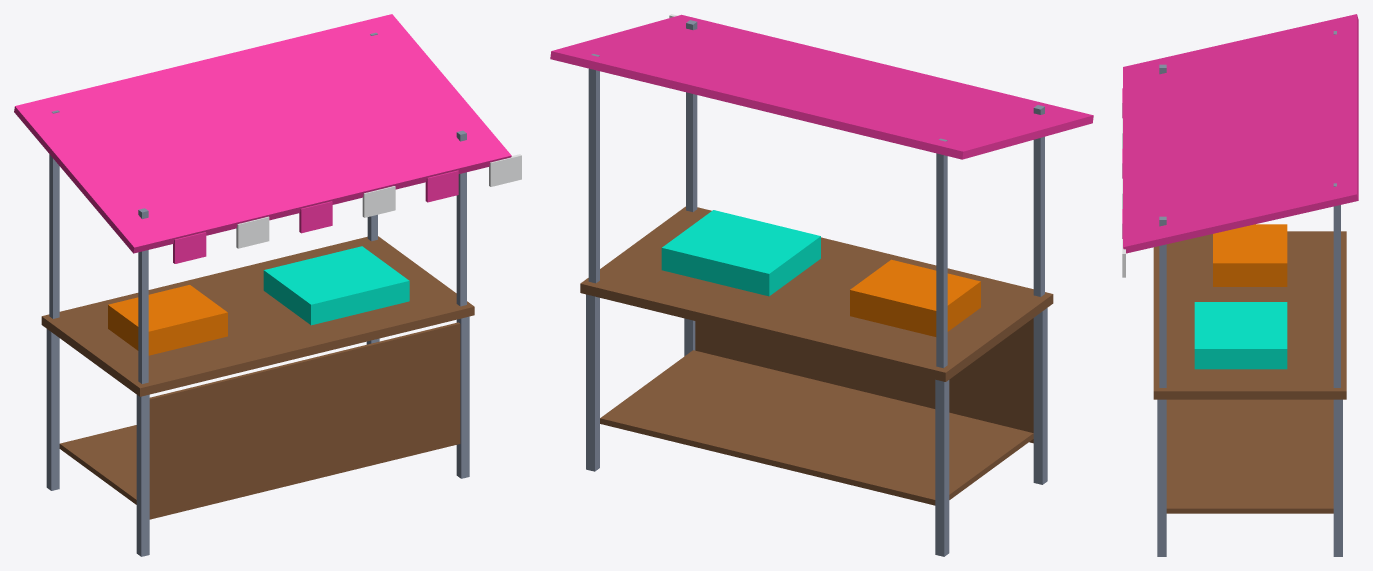
Rendered from stage_chodem_kiosk_hong.fbx.
3 renders of one model, left to right at view 1: azimuth 30°, elevation 25°; view 2: azimuth 150°, elevation 25°; view 3: azimuth 270°, elevation 25°, orthographic. The views are drawn at different scales.
Visible parts, largest first — view 1: stage_chodem_kiosk_hong; view 2: stage_chodem_kiosk_hong; view 3: stage_chodem_kiosk_hong.
Part boxes in pixels (left/top/right/bottom): stage_chodem_kiosk_hong: left=14, top=14, right=521, bottom=556; stage_chodem_kiosk_hong: left=550, top=14, right=1093, bottom=556; stage_chodem_kiosk_hong: left=1122, top=14, right=1358, bottom=556.
Size of the model in its own units: 2.36 by 2.23 by 1.28.
